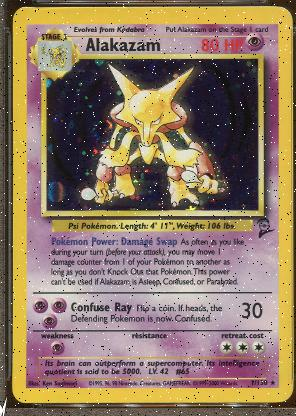Card: (9, 3, 293, 405)
